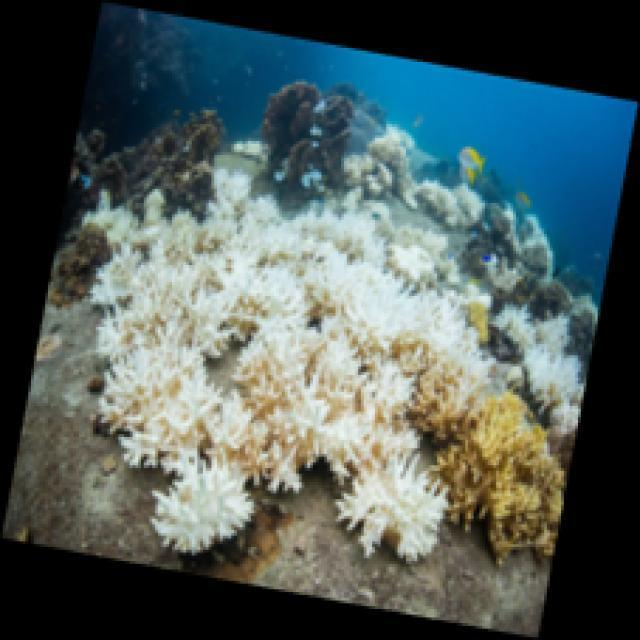Bleached: (82, 171, 489, 562), (336, 454, 449, 565), (493, 305, 588, 437), (372, 128, 422, 212), (414, 182, 486, 231), (341, 155, 396, 199)
Healthy: (439, 397, 572, 568), (464, 304, 492, 345)
